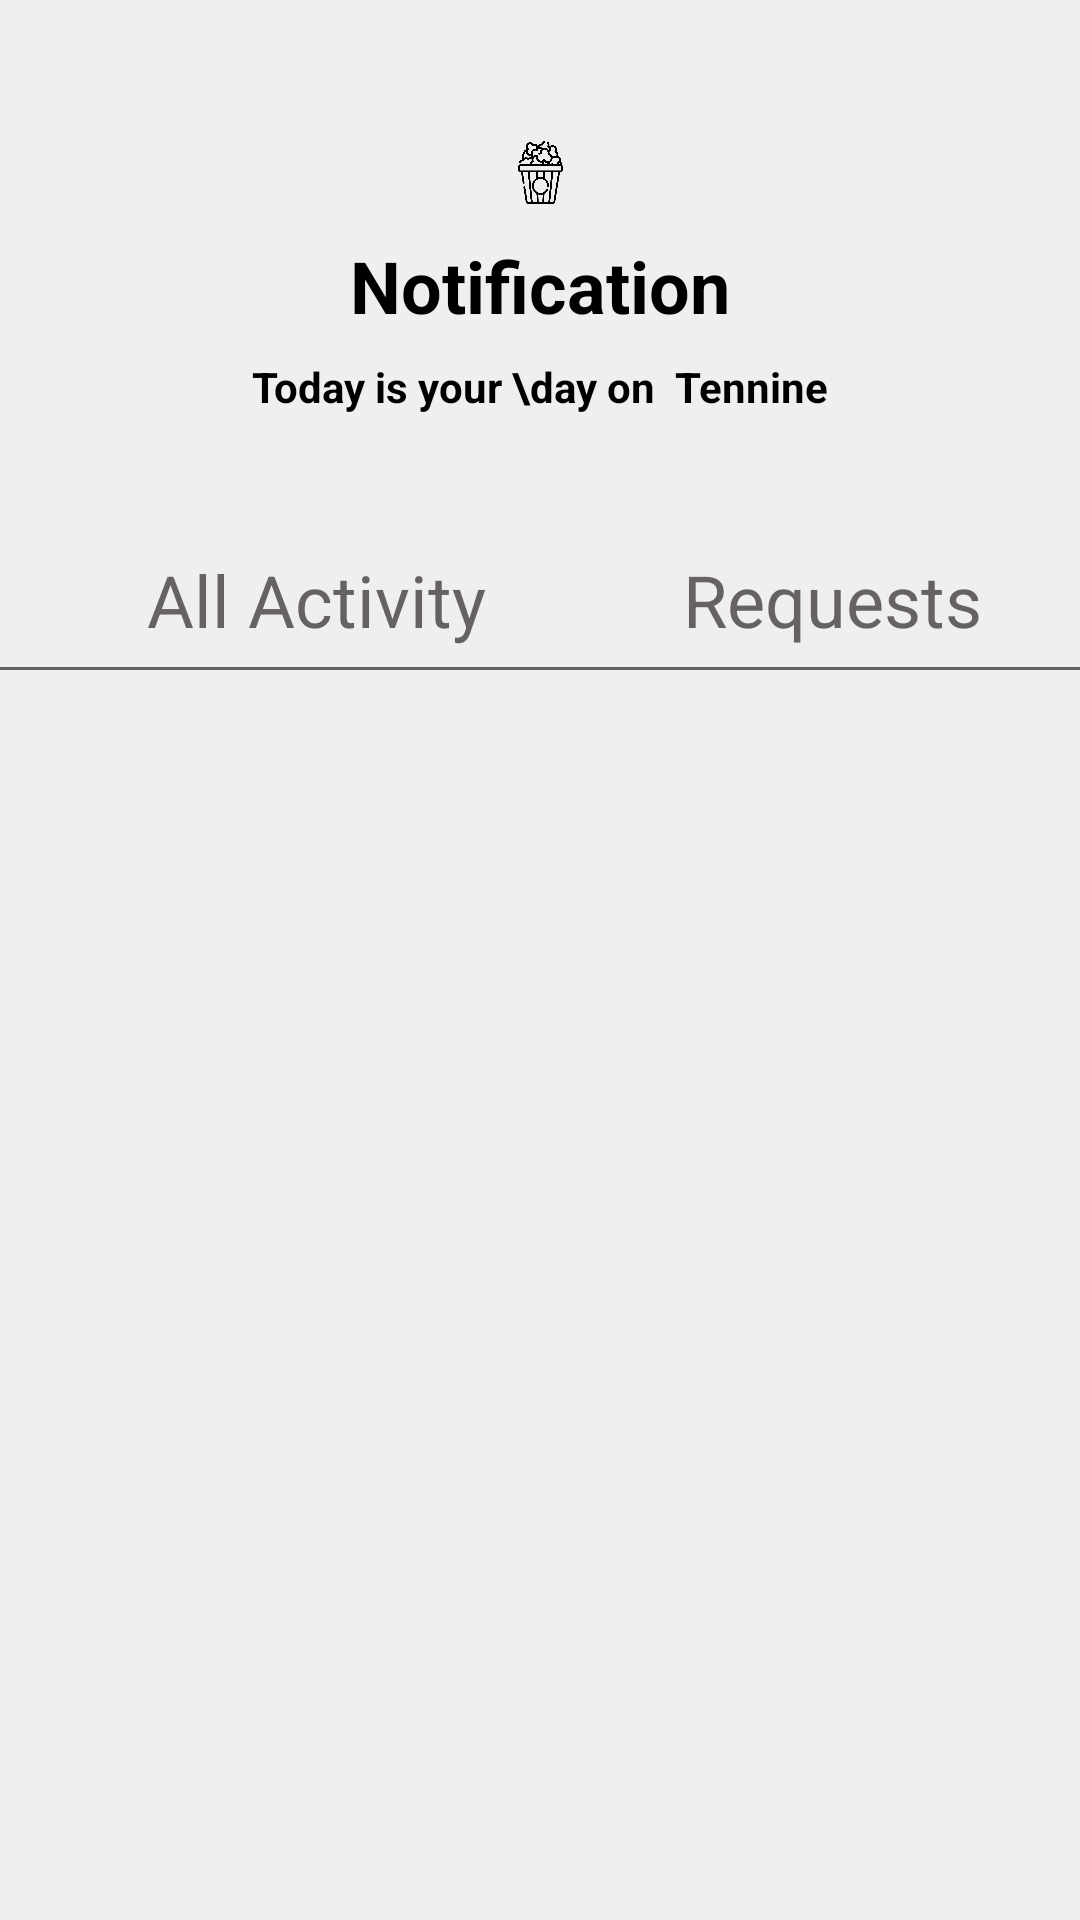

Named icons in this screenshot (1080w x 1920h) and their bounding boxes, rect(x1, y1, x2, y2):
popcorn: rect(518, 141, 563, 204)
